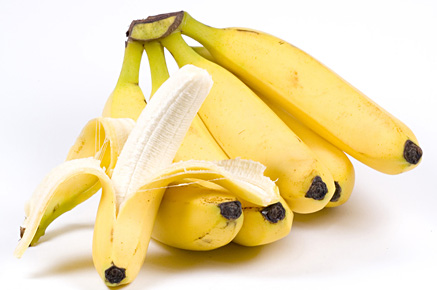banana: (190, 12, 422, 182), (170, 43, 355, 216), (140, 56, 290, 246), (86, 75, 172, 290)
